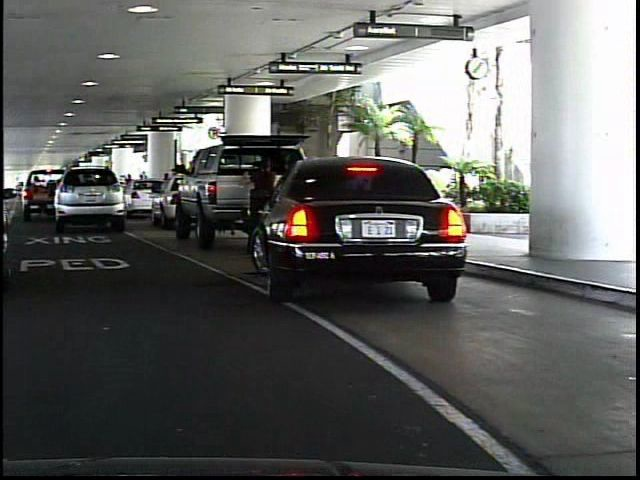person: (238, 150, 289, 254)
